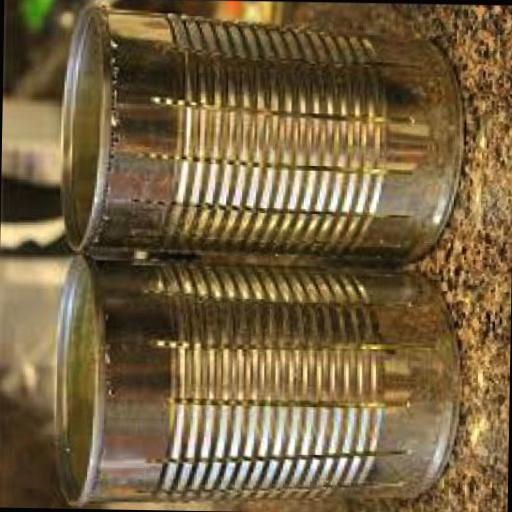metal: (59, 0, 464, 260), (52, 252, 458, 510)
